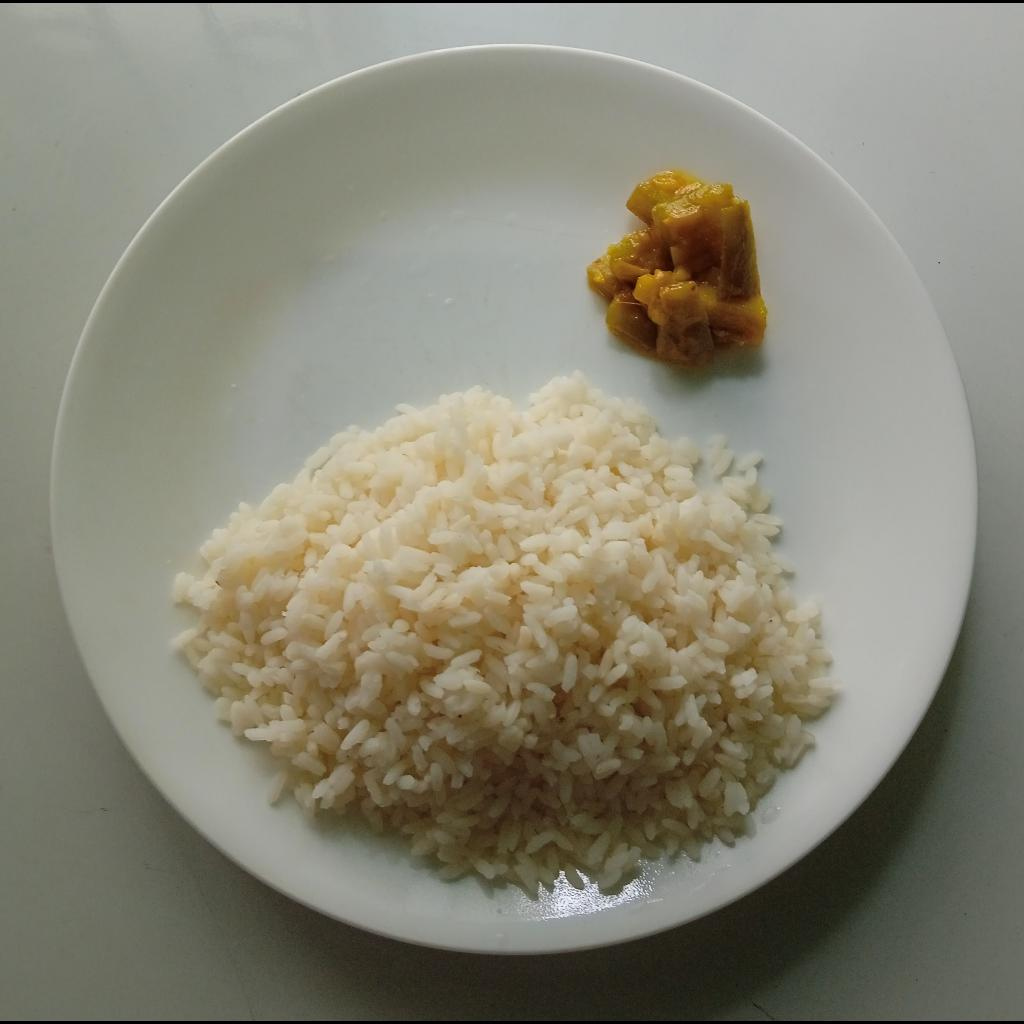potol: (583, 167, 769, 368)
rice: (169, 371, 841, 902)
